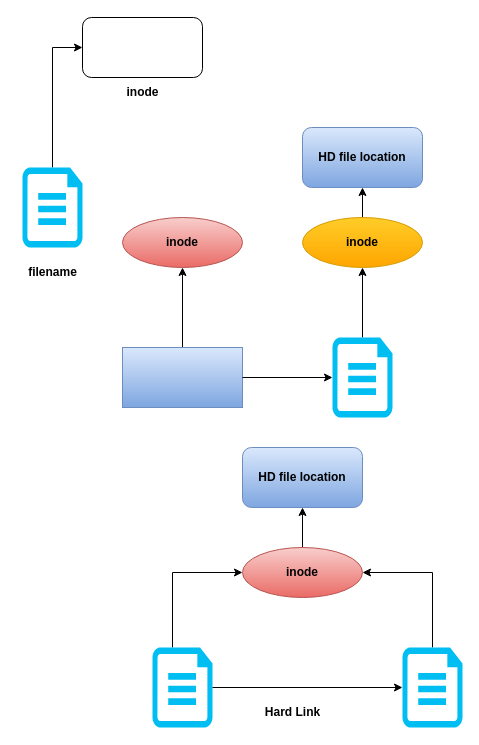
The diagram is 479 pixels wide and 745 high, and some of its shapes have lost their labels. Here are the shapes that lost their labels. From the top down, the centre of each, then its label:
point (142, 47): permissions owner size memory locations
point (182, 377): symlink
